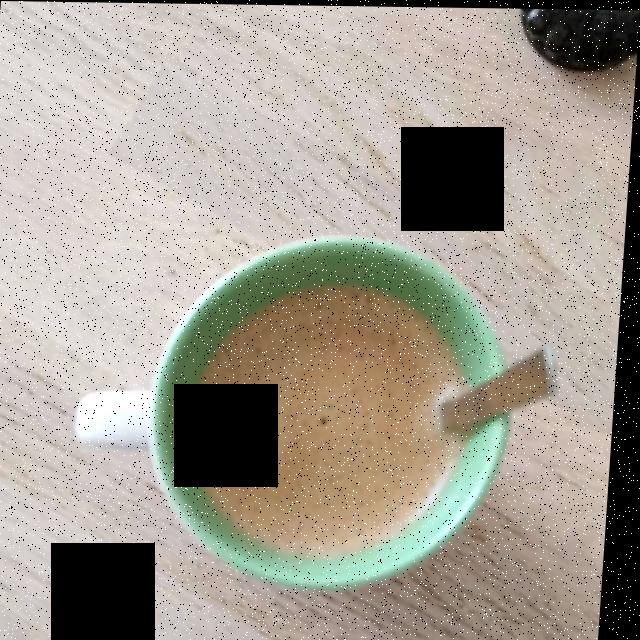coffee-with-caffeine: (201, 285, 486, 552)
